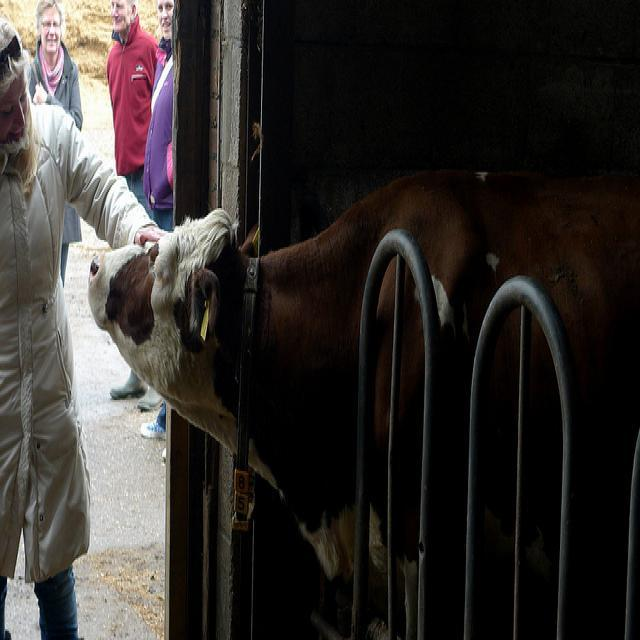cow: (84, 162, 639, 631)
